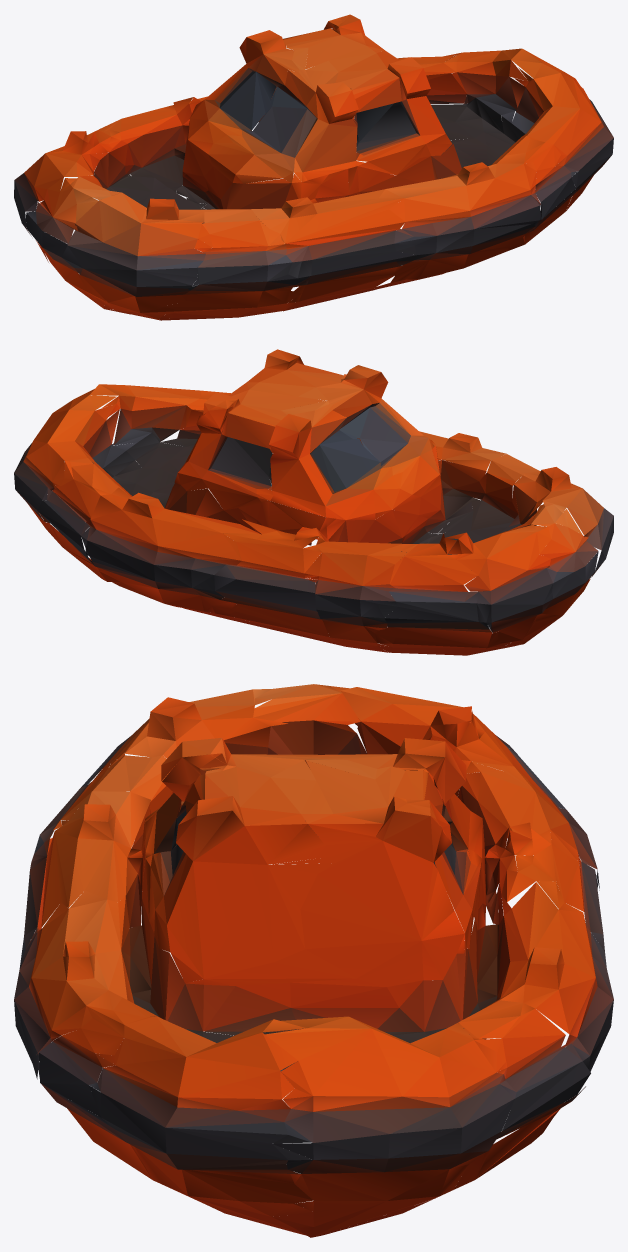
File: building-rescueLaunch.glb
3 views of the same model, one above another, from view 1: azimuth 30°, elevation 25°; view 2: azimuth 150°, elevation 25°; view 3: azimuth 270°, elevation 25° (orthographic). The views are drawn at different scales.
Visible parts, largest first — view 1: 0_rescueLaunch; view 2: 0_rescueLaunch; view 3: 0_rescueLaunch.
Part boxes in pixels (left/top/right/bottom): 0_rescueLaunch: left=14, top=14, right=613, bottom=320; 0_rescueLaunch: left=14, top=349, right=613, bottom=655; 0_rescueLaunch: left=14, top=684, right=613, bottom=1237.
Size of the model in its own units: 4.45 by 1.7 by 2.65.
